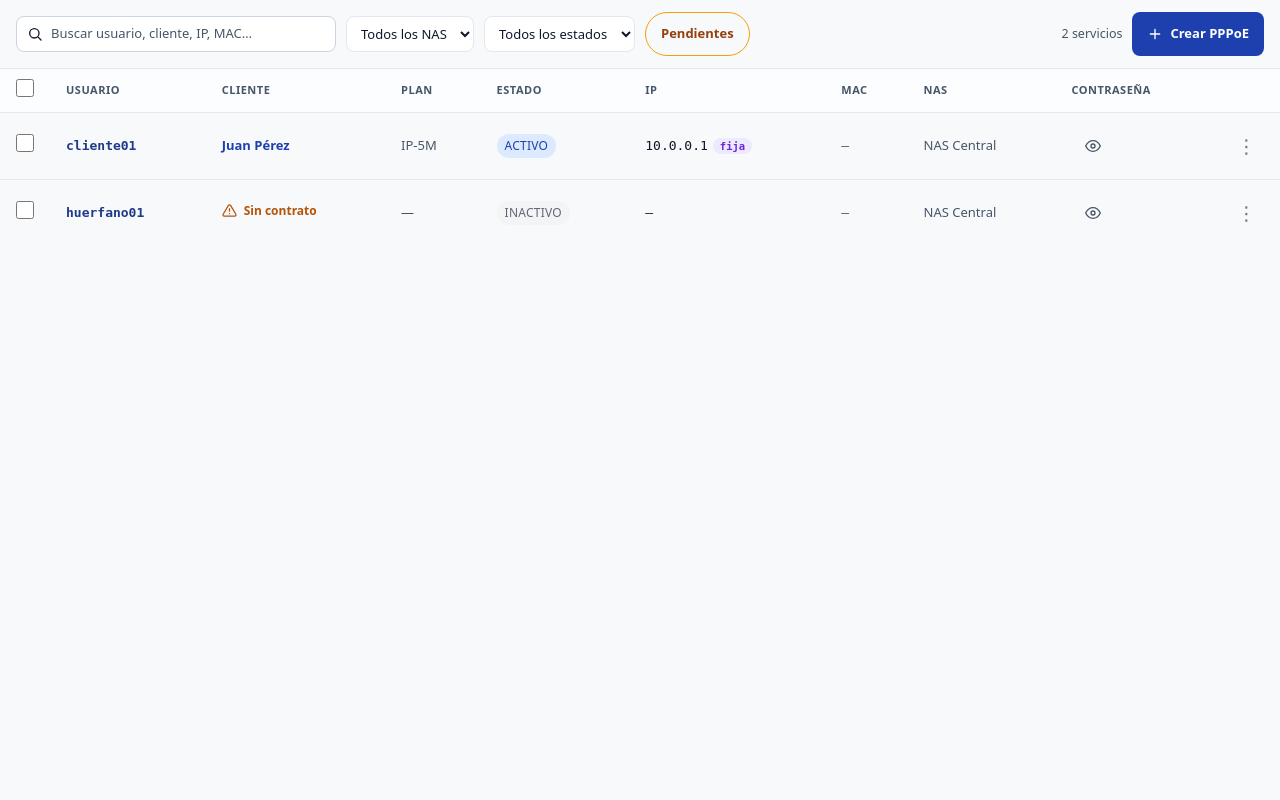
Test: PppoeManagementTab — modal Renombrar › abre el modal de renombrar al hacer click en "Cambiar usuario"
This screenshot has width=1280, height=800.
Click the button named "Acciones": [1246, 146] box 1229,132 -> 1264,159
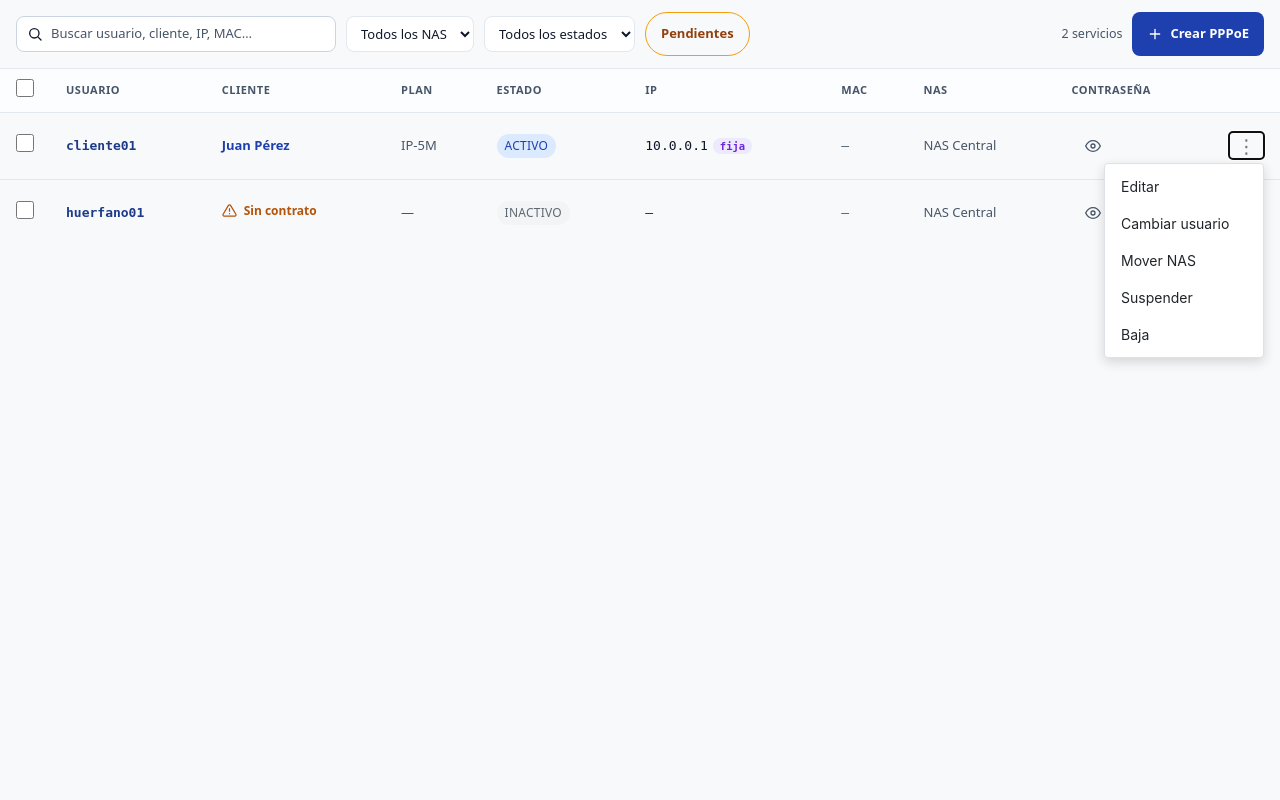
Click the menu item "Cambiar usuario": [1184, 224] box 1105,205 -> 1263,242
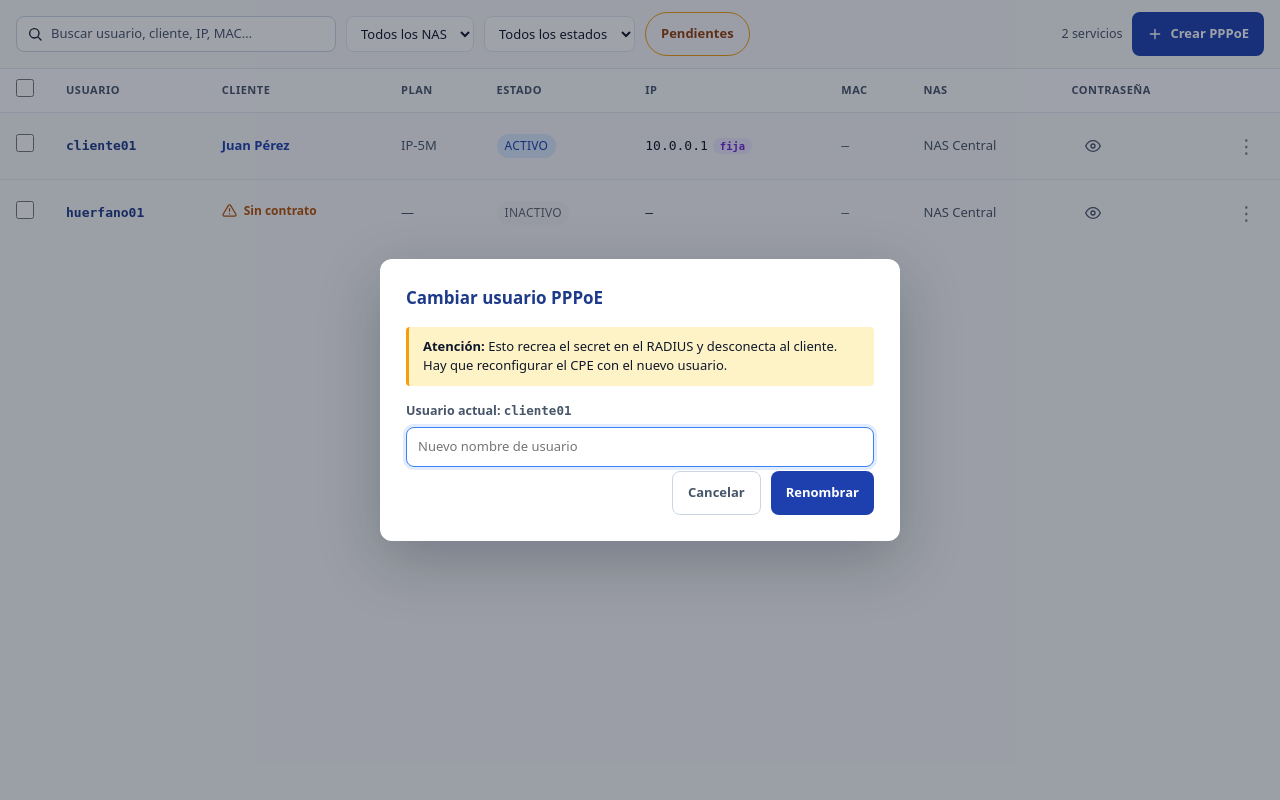
expect the dialog is shown: met, box 380,259 -> 900,541
